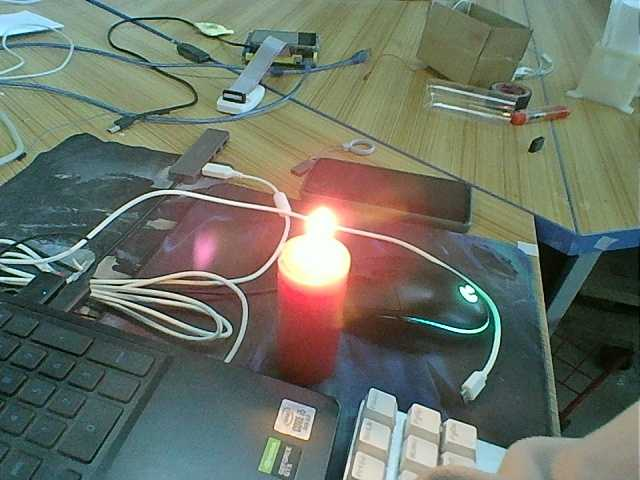candle: (269, 233, 355, 383)
fire: (300, 203, 340, 264)
